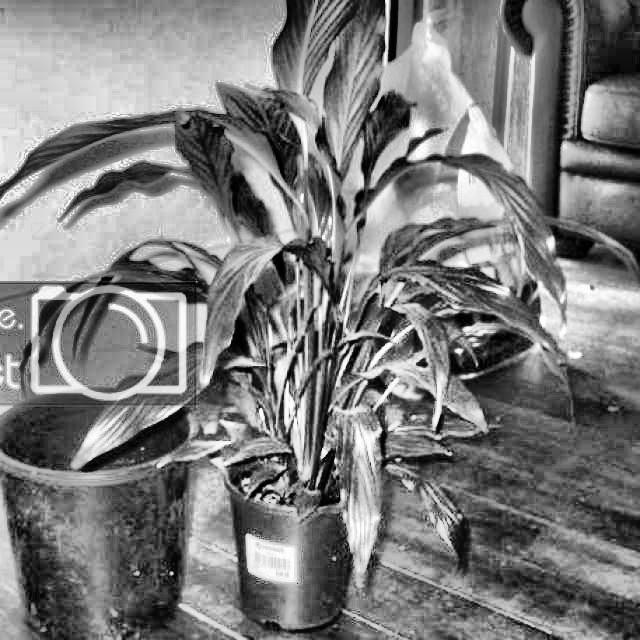plants: (51, 0, 608, 603), (338, 408, 389, 598)
